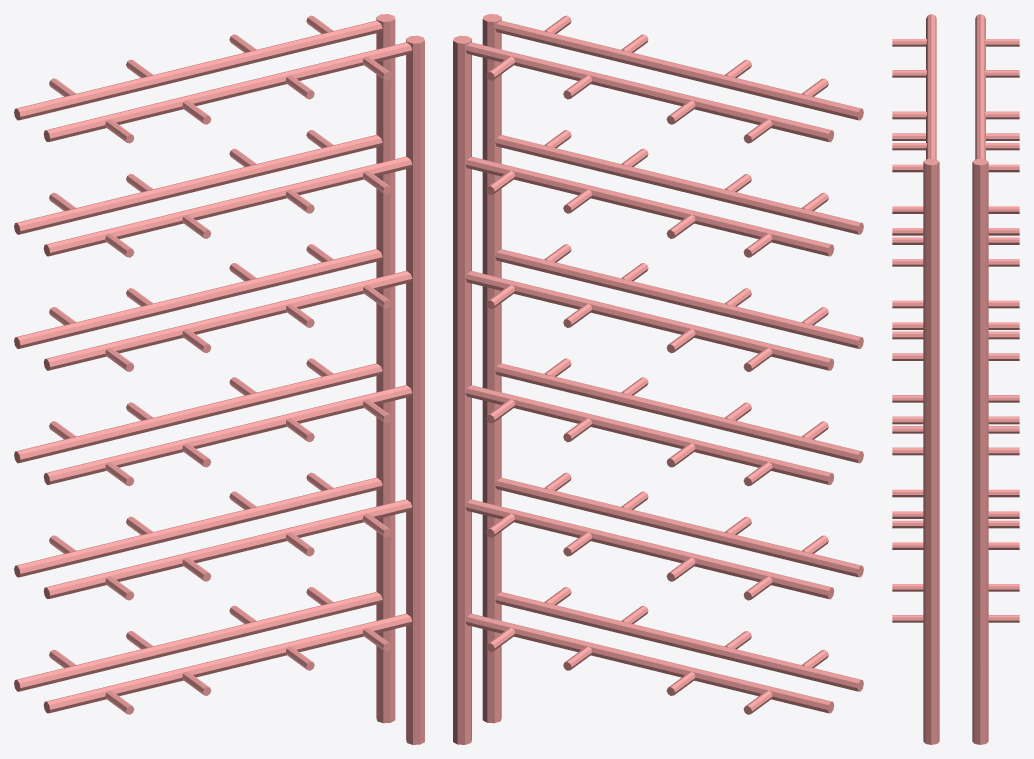
File: HVAC .gltf
3 renders of one model, left to right at view 1: azimuth 30°, elevation 25°; view 2: azimuth 150°, elevation 25°; view 3: azimuth 270°, elevation 25°, orthographic. The views are drawn at different scales.
Parts seen in each view (by area): view 1: HVAC; view 2: HVAC; view 3: HVAC.
Part boxes in pixels (<box>): HVAC: <box>14,14,424,744</box>; HVAC: <box>453,14,863,744</box>; HVAC: <box>892,14,1019,744</box>.
Size of the model in its own units: 0.0733 by 0.1303 by 0.0259.
